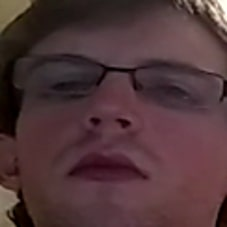drowsy: (29, 47, 218, 200)
